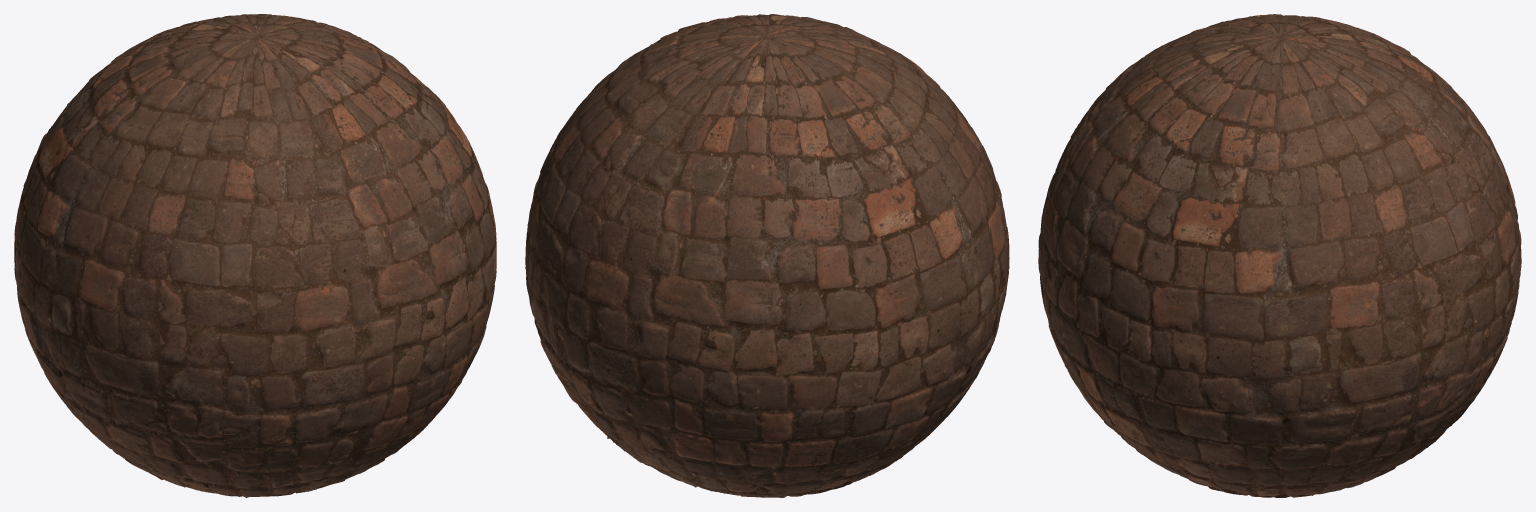
Rendered from worn_brick_floor_2k.gltf.
3 renders of one model, left to right at view 1: azimuth 30°, elevation 25°; view 2: azimuth 150°, elevation 25°; view 3: azimuth 270°, elevation 25°, orthographic.
Parts seen in each view (by area): view 1: sphere_gltf; view 2: sphere_gltf; view 3: sphere_gltf.
Part boxes in pixels (<box>): sphere_gltf: <box>14,14,496,497</box>; sphere_gltf: <box>525,14,1009,497</box>; sphere_gltf: <box>1038,14,1521,497</box>.
Size of the model in its own units: 2.01 by 2.01 by 2.01.
